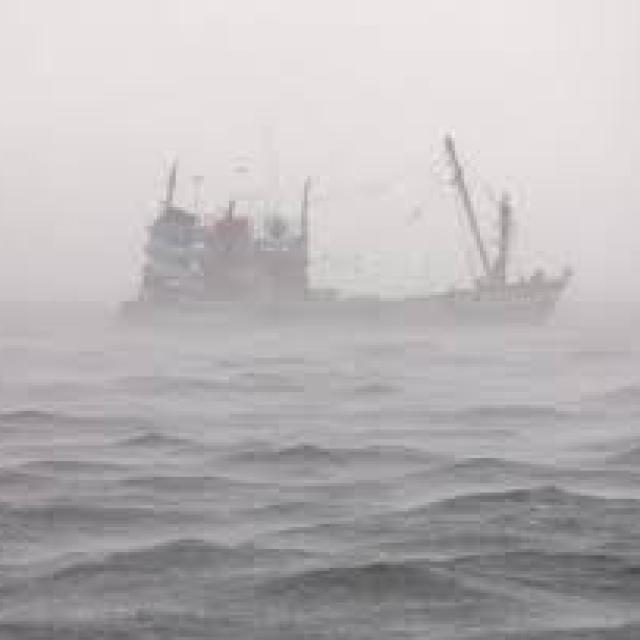fishing boat: (129, 127, 564, 330)
